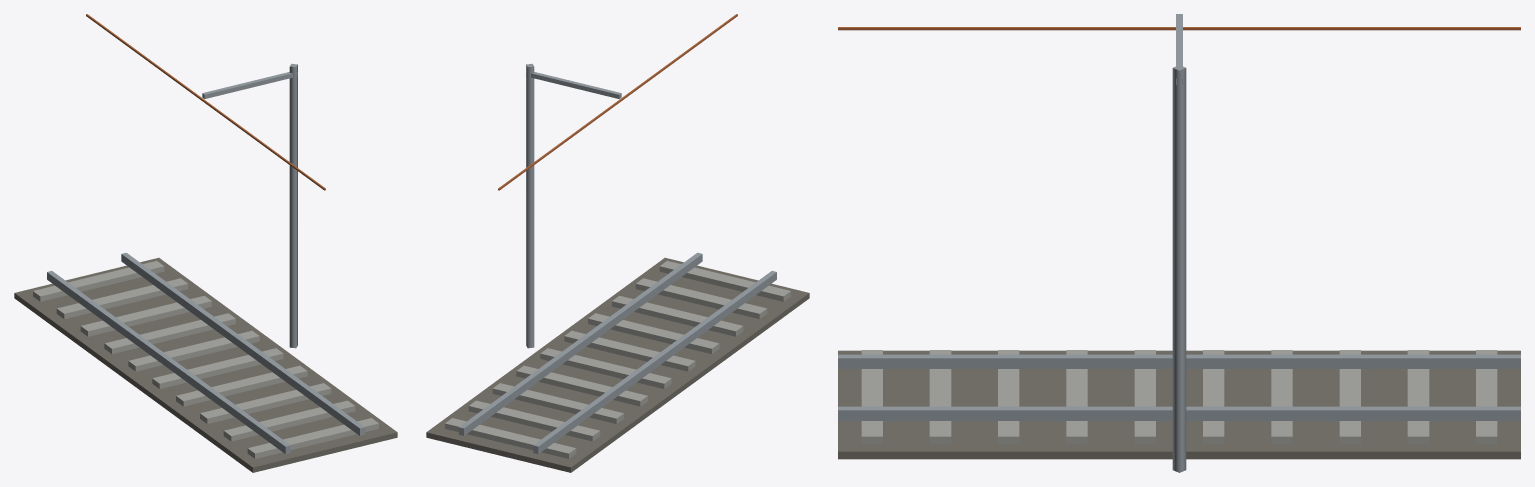
The model's file is road_rail_viii_straight.glb.
3 renders of one model, left to right at view 1: azimuth 30°, elevation 25°; view 2: azimuth 150°, elevation 25°; view 3: azimuth 270°, elevation 25°, orthographic. The views are drawn at different scales.
Parts seen in each view (by area): view 1: body; view 2: body; view 3: body.
Boxes of the visible parts, box(x1,y1,x2,y2) form: body: box(14, 14, 397, 472); body: box(426, 14, 809, 472); body: box(838, 14, 1520, 472).
Size of what is drawn, in the model's own units: 3.18 by 5.2 by 8.
